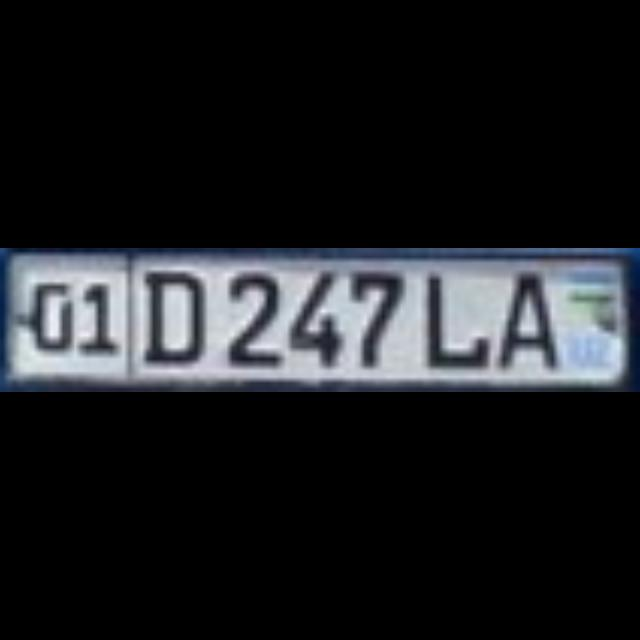0: (24, 272, 66, 344)
1: (73, 272, 115, 350)
2: (224, 266, 272, 356)
4: (284, 266, 338, 362)
7: (344, 260, 398, 362)
A: (489, 266, 549, 362)
D: (139, 266, 199, 356)
L: (417, 266, 483, 362)
